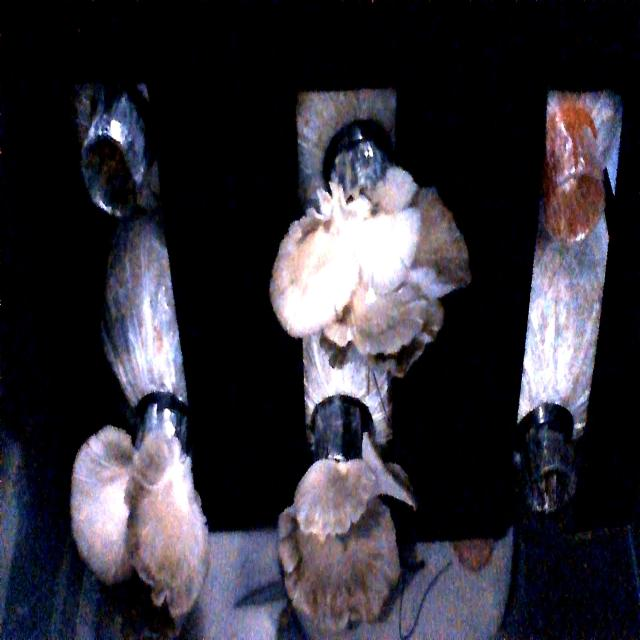big: (272, 177, 474, 403), (262, 427, 446, 631), (58, 397, 222, 618)
nfound: (548, 141, 626, 292), (56, 111, 140, 238), (503, 422, 590, 538)
